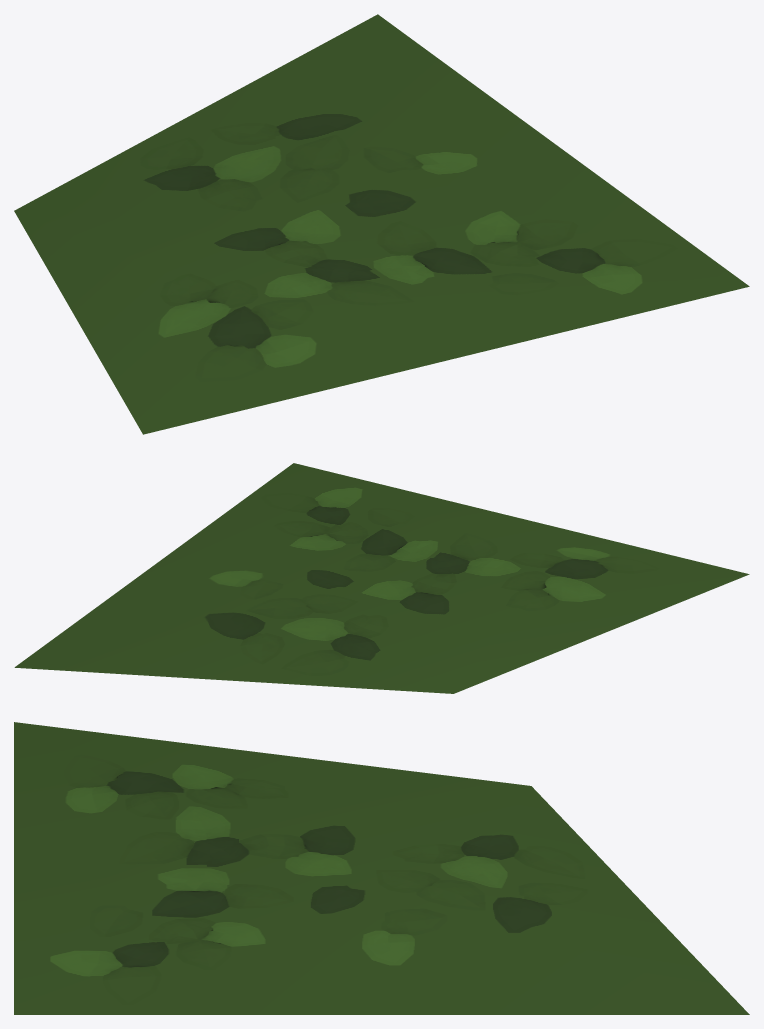
File: SM_Env_Leaves_01.fbx
3 renders of one model, top to bottom at view 1: azimuth 30°, elevation 25°; view 2: azimuth 150°, elevation 25°; view 3: azimuth 270°, elevation 25°, orthographic. The views are drawn at different scales.
Parts seen in each view (by area): view 1: SM_Env_Leaves_01_LOD0; view 2: SM_Env_Leaves_01_LOD0; view 3: SM_Env_Leaves_01_LOD0.
Part boxes in pixels (x1,y1,x2,y2): SM_Env_Leaves_01_LOD0: (14, 14, 749, 434); SM_Env_Leaves_01_LOD0: (14, 463, 749, 693); SM_Env_Leaves_01_LOD0: (14, 722, 749, 1014).
Bounding box in the file's own units: 158 × 5.58 × 168.
